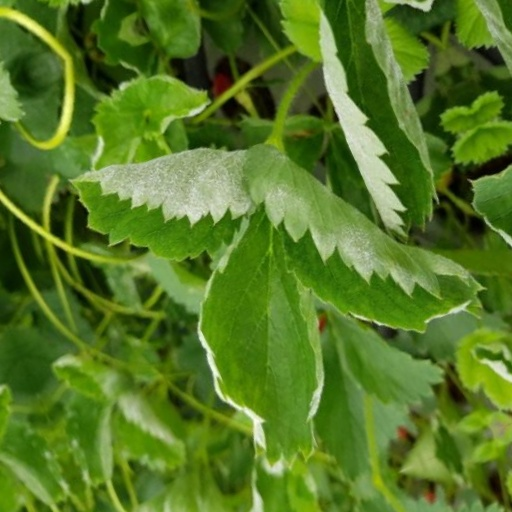Powdery Mildew Leaf: (270, 156, 454, 406), (164, 208, 292, 467), (384, 6, 472, 306), (111, 111, 291, 240), (148, 43, 280, 109)
